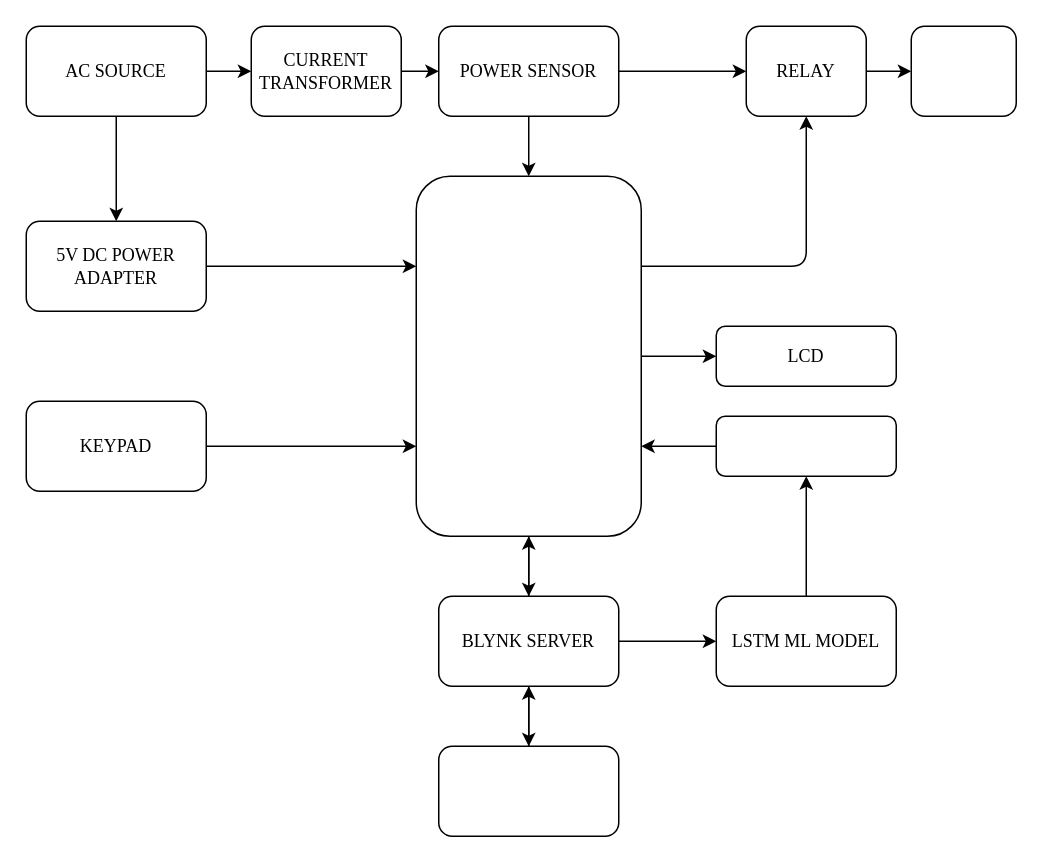
Image size: 1043x863. Some labels were removed from this diagram. The centre of each missing label's shape, as x and y in pixels:
BLYNK APP: the point at 528,790
ESP 32 MICRO-CONTROLLER: the point at 528,355
FLASKED-BASED API: the point at 805,445
LOAD: the point at 963,70
